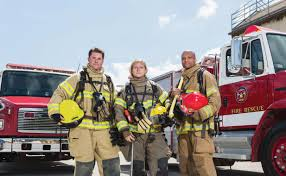emergent: (51, 45, 119, 175), (117, 59, 172, 175), (170, 50, 218, 175)
